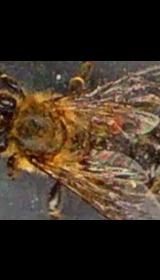varroa_mite: (106, 114, 124, 138)
